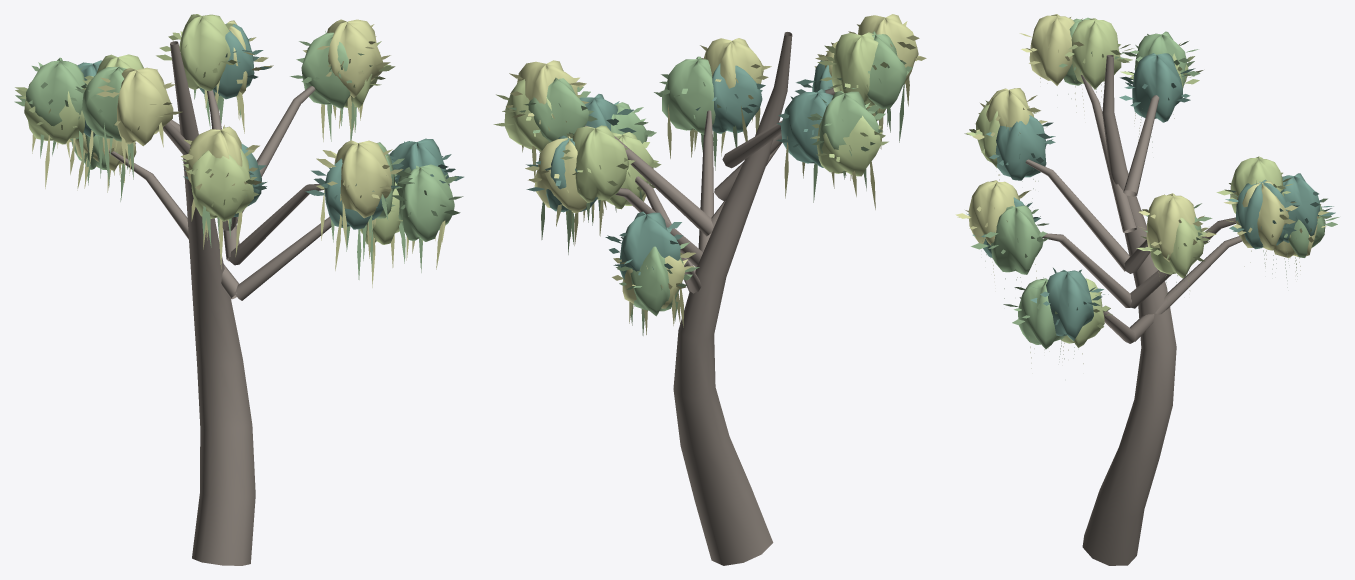
The model's file is willow_swept.glb.
The picture shows the model from 3 angles, left to right: view 1: azimuth 30°, elevation 25°; view 2: azimuth 150°, elevation 25°; view 3: azimuth 270°, elevation 25°; orthographic projection. The views are drawn at different scales.
Parts seen in each view (by area): view 1: willow_swept; view 2: willow_swept; view 3: willow_swept.
Boxes of the visible parts, box(x1,y1,x2,y2) form: willow_swept: box(14, 14, 463, 565); willow_swept: box(493, 14, 926, 565); willow_swept: box(955, 14, 1339, 565).
Size of the model in its own units: 5.06 by 6.91 by 4.92.
